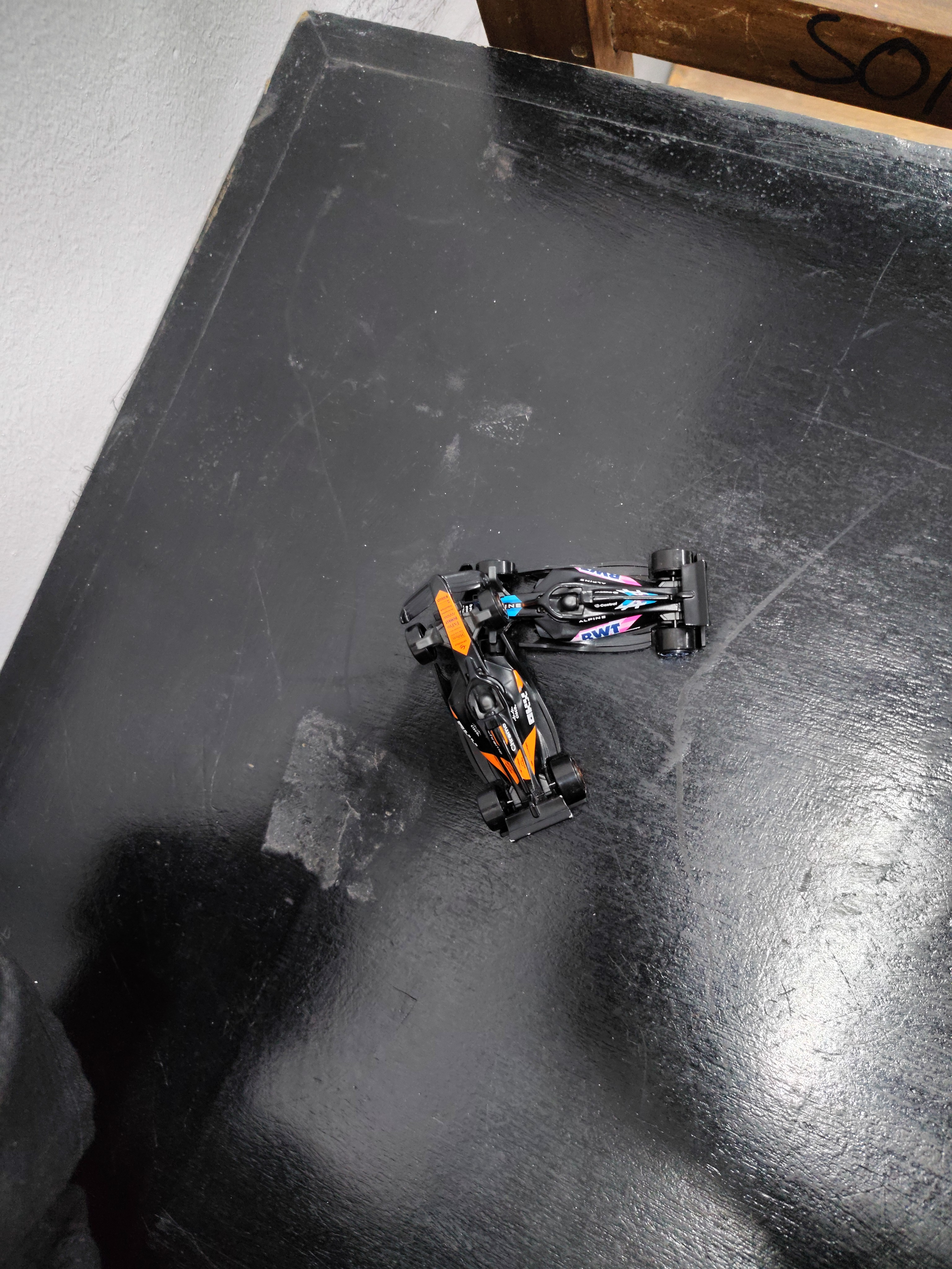Alpine A524: (414, 527, 761, 663)
McLaren MCL40: (392, 579, 578, 869)
